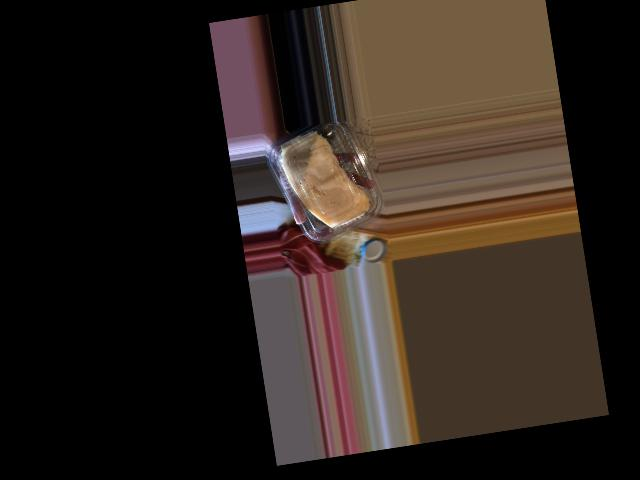cheese: (269, 116, 384, 250)
